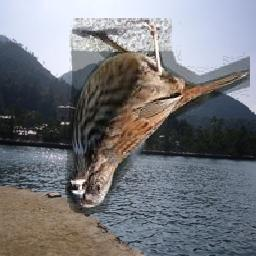Sparrow: (66, 19, 251, 214)
